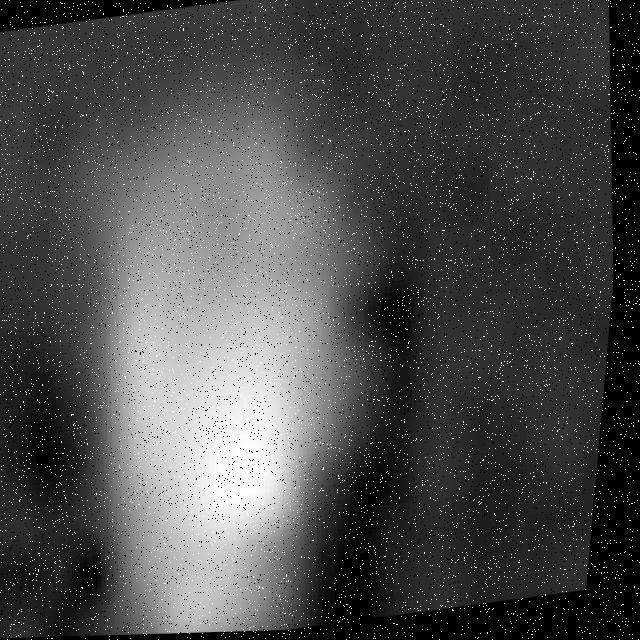person: (67, 77, 402, 638)
